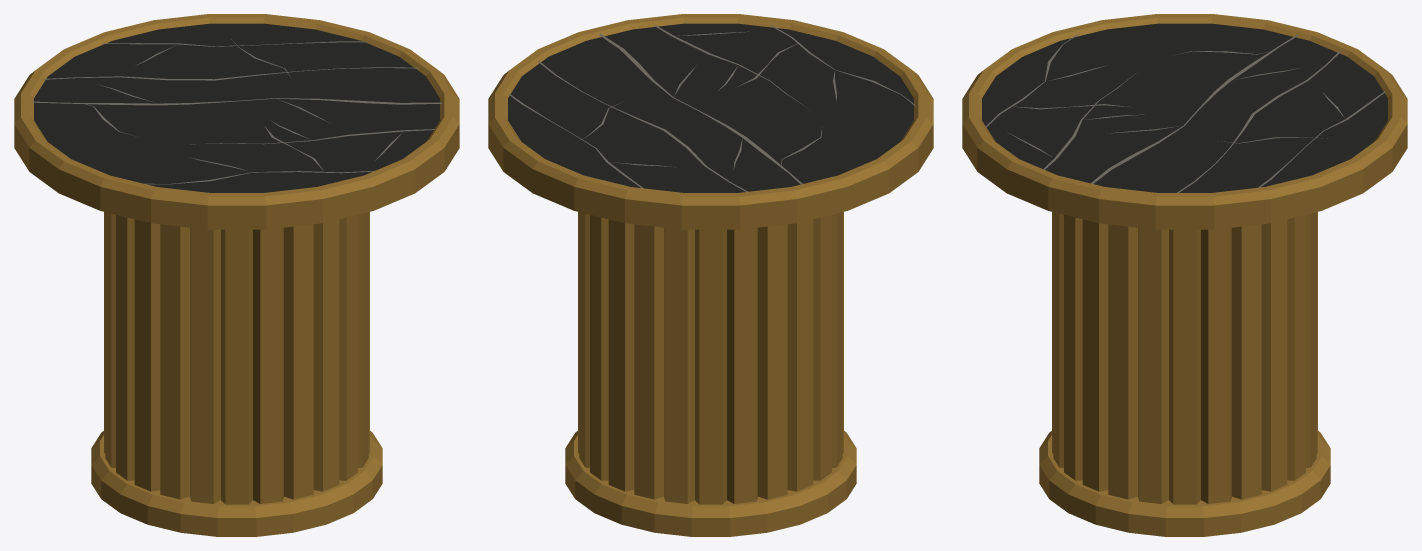
The model's file is lounge-drum-table-13d029.glb.
3 views of the same model, side by side, from view 1: azimuth 30°, elevation 25°; view 2: azimuth 150°, elevation 25°; view 3: azimuth 270°, elevation 25° (orthographic).
Parts seen in each view (by area): view 1: drum-table; view 2: drum-table; view 3: drum-table.
Part boxes in pixels (box(x1,y1,x2,y2)): drum-table: box(14, 14, 459, 536); drum-table: box(488, 14, 933, 536); drum-table: box(962, 14, 1407, 536).
Bounding box in the file's own units: 0.6 × 0.55 × 0.6.
